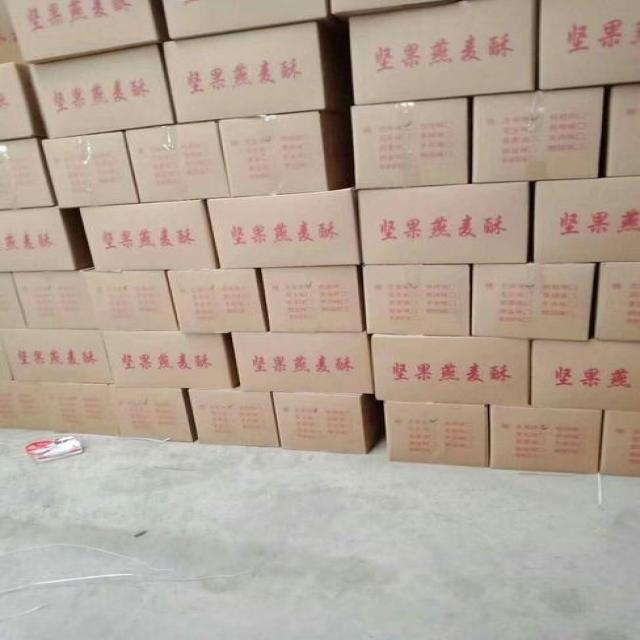box: (349, 0, 538, 105), (163, 21, 350, 123), (358, 181, 530, 264), (28, 43, 174, 139), (471, 86, 605, 183), (206, 188, 361, 268), (216, 110, 353, 197), (370, 334, 531, 406), (351, 96, 468, 189), (12, 267, 178, 330), (79, 199, 219, 271), (4, 0, 161, 64), (472, 263, 597, 340), (534, 176, 640, 263), (539, 0, 640, 90), (231, 332, 374, 394), (123, 120, 230, 202), (489, 405, 603, 475), (101, 331, 239, 388), (362, 264, 471, 336), (39, 131, 139, 209), (531, 340, 640, 411), (261, 265, 366, 333), (273, 392, 386, 455), (384, 401, 488, 468), (161, 0, 333, 40), (165, 268, 268, 333), (0, 329, 114, 384), (0, 206, 94, 272), (189, 386, 281, 448), (109, 385, 197, 442), (42, 382, 121, 437), (0, 138, 56, 210), (595, 262, 640, 343), (0, 62, 46, 141), (605, 83, 640, 177), (599, 410, 640, 477), (0, 380, 52, 431), (0, 272, 28, 328)
